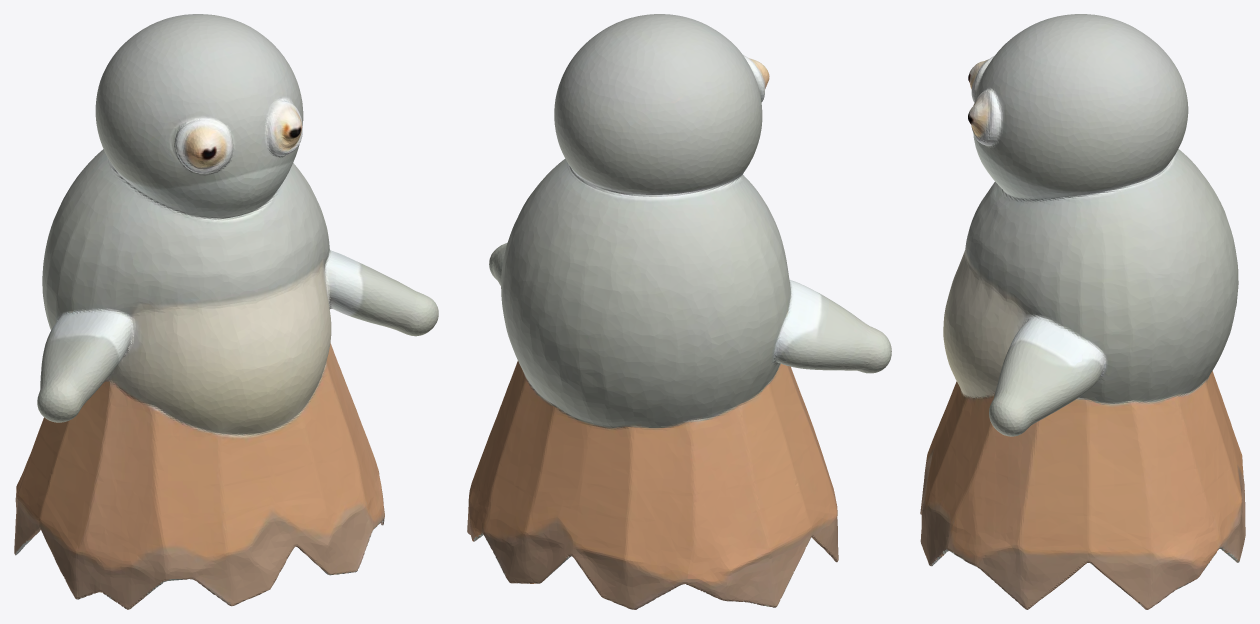
File: creature-115.glb
3 views of the same model, side by side, from view 1: azimuth 30°, elevation 25°; view 2: azimuth 150°, elevation 25°; view 3: azimuth 270°, elevation 25° (orthographic).
Parts seen in each view (by area): view 1: tmpx0w3cstn.ply; view 2: tmpx0w3cstn.ply; view 3: tmpx0w3cstn.ply.
Part boxes in pixels (x1,y1,x2,y2): tmpx0w3cstn.ply: (14, 14, 438, 609); tmpx0w3cstn.ply: (467, 14, 891, 609); tmpx0w3cstn.ply: (920, 14, 1245, 609).
Size of the model in its own units: 1.51 by 1.89 by 1.09.
1 material, 1 textured.
